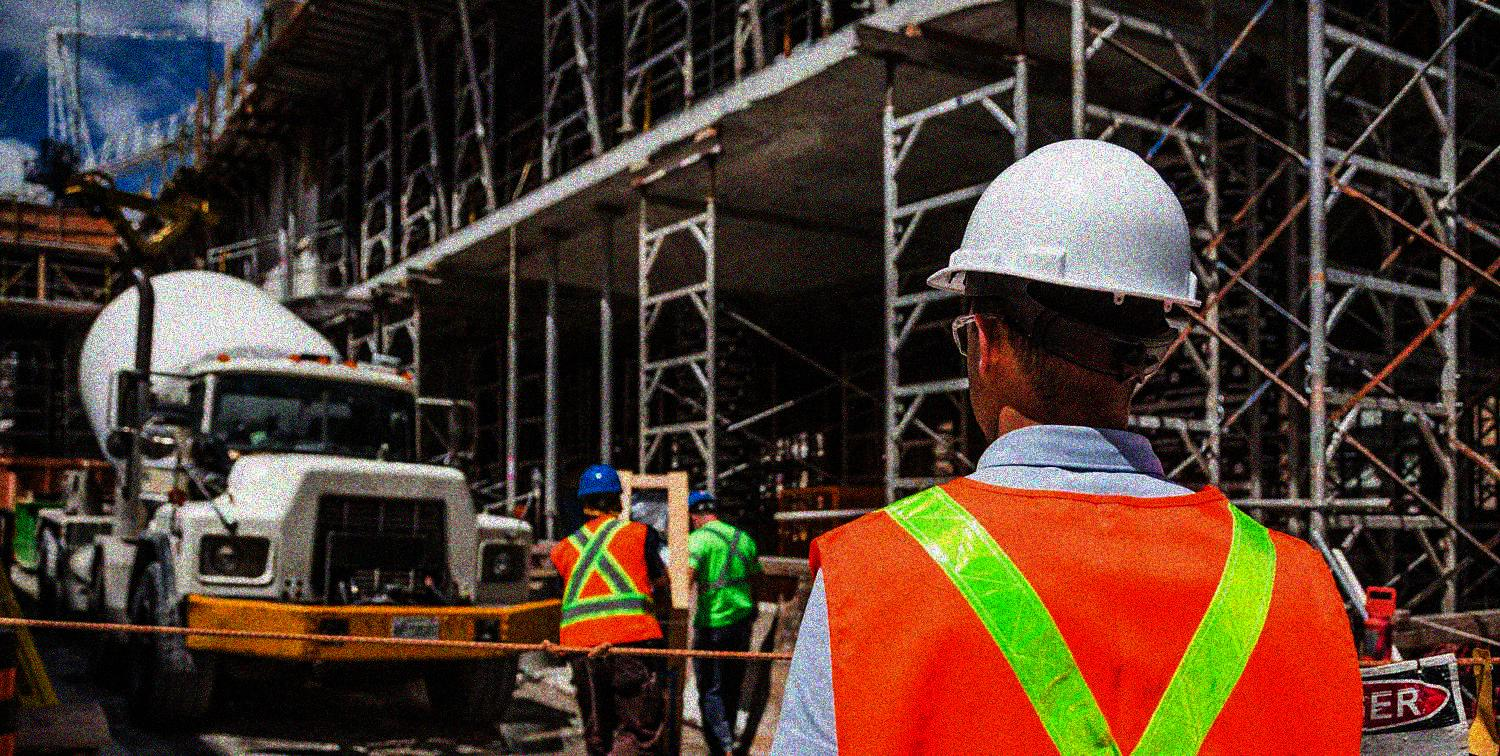helmet: (928, 138, 1198, 432), (577, 458, 626, 514), (689, 486, 719, 528)
